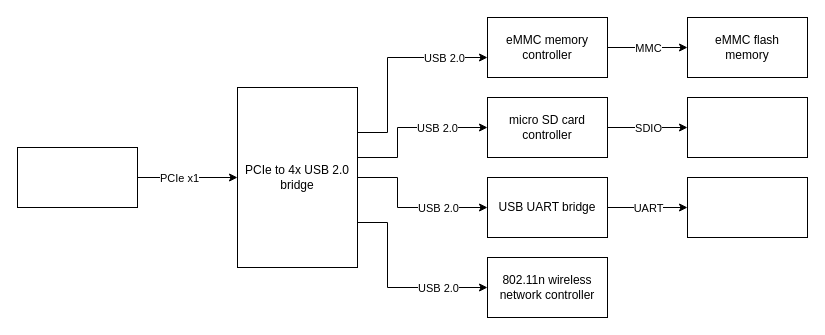
The diagram is 825 pixels wide and 335 high, and some of its shapes have lost their labels. The box of each missing label's shape, as (x1, y1, x2, y2) in pixels:
M.2 Key M edge connector: (16, 146, 138, 208)
micro SD card reader: (686, 96, 808, 158)
ZigBee / Thread RF SoC: (686, 176, 808, 238)
